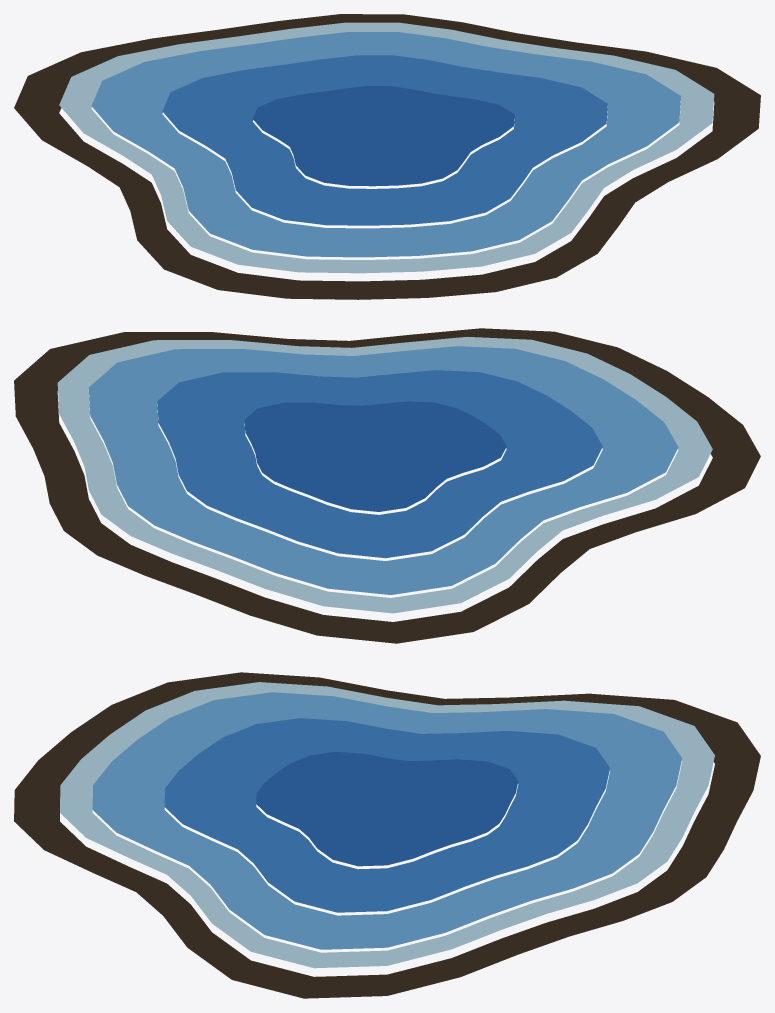
Rendered from food-puddle.glb.
The picture shows the model from 3 angles, top to bottom: view 1: azimuth 30°, elevation 25°; view 2: azimuth 150°, elevation 25°; view 3: azimuth 270°, elevation 25°; orthographic projection. The views are drawn at different scales.
Size of the model in its own units: 2.43 by 0.06 by 2.36.
